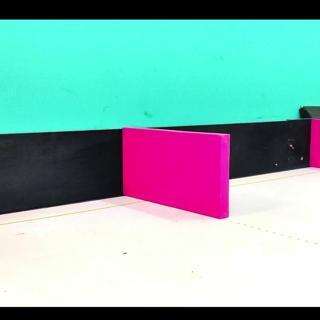xparking: (131, 140, 228, 214), (314, 124, 318, 168)
